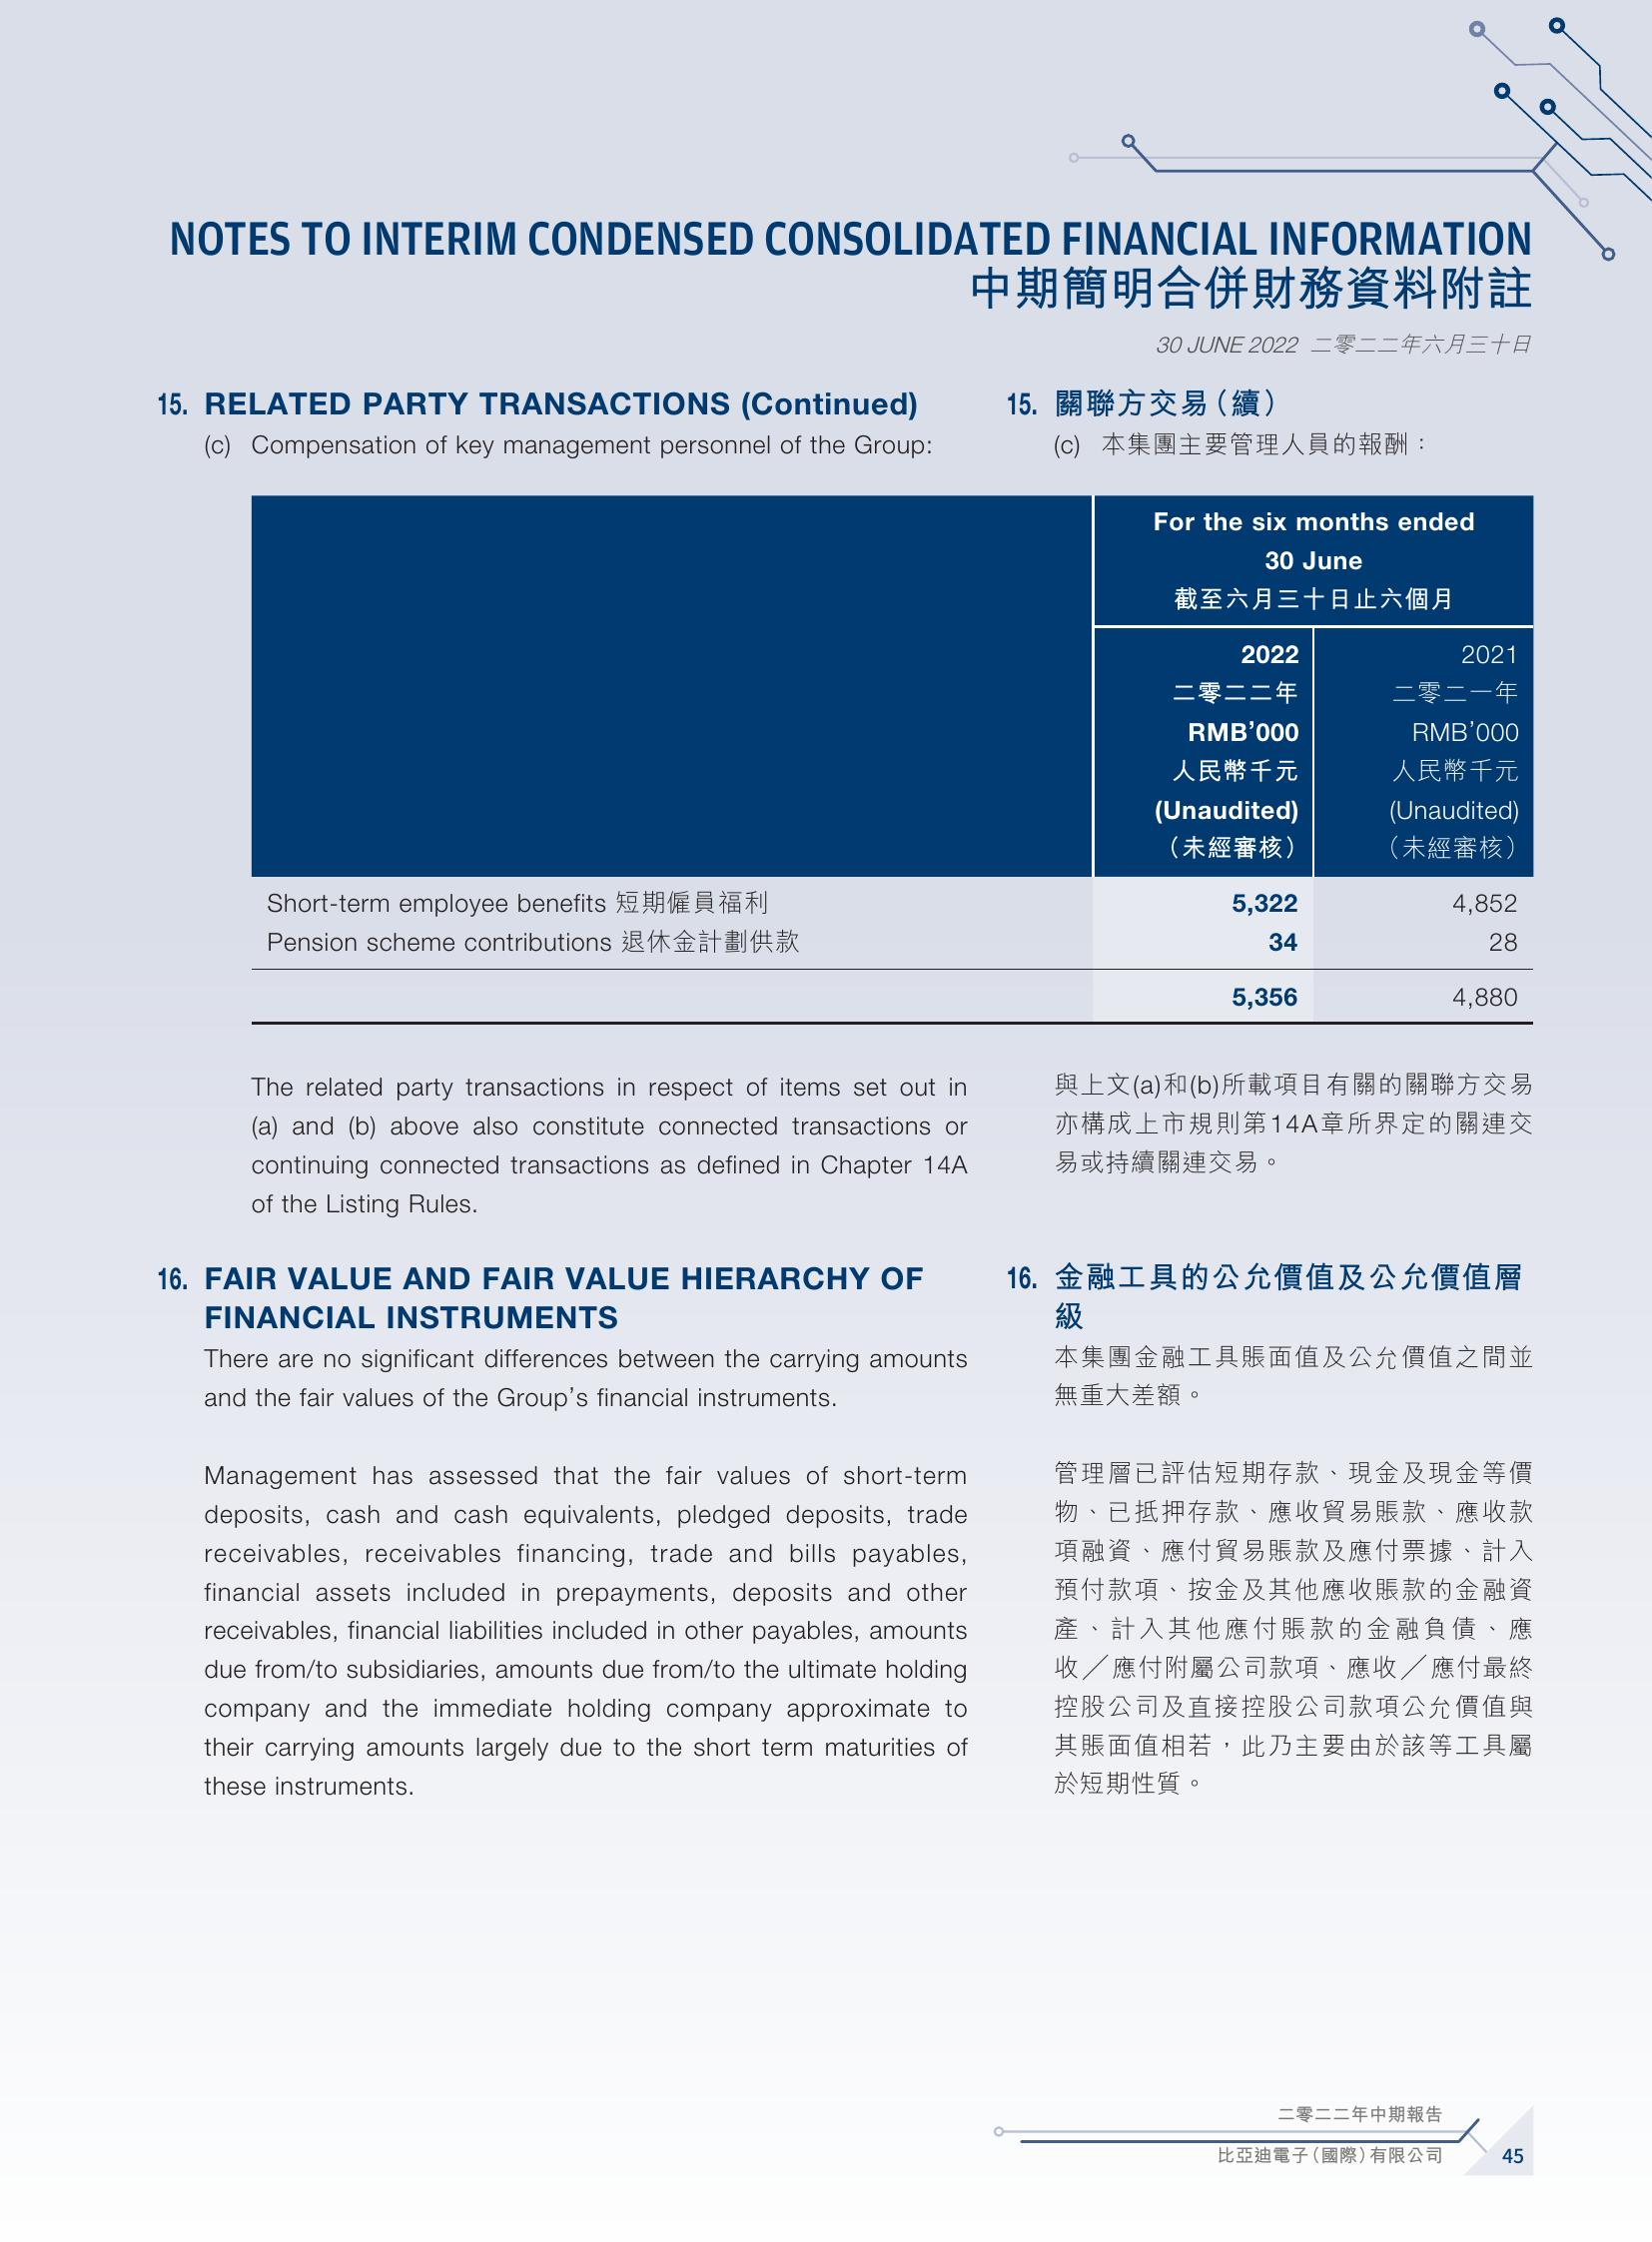Footer: (0, 2071, 1652, 2242)
Header: (0, 0, 1652, 185)
Table: (223, 468, 1556, 1022)
